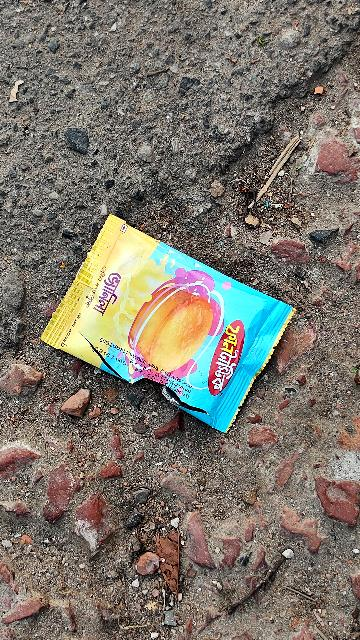packet: (39, 206, 297, 441)
